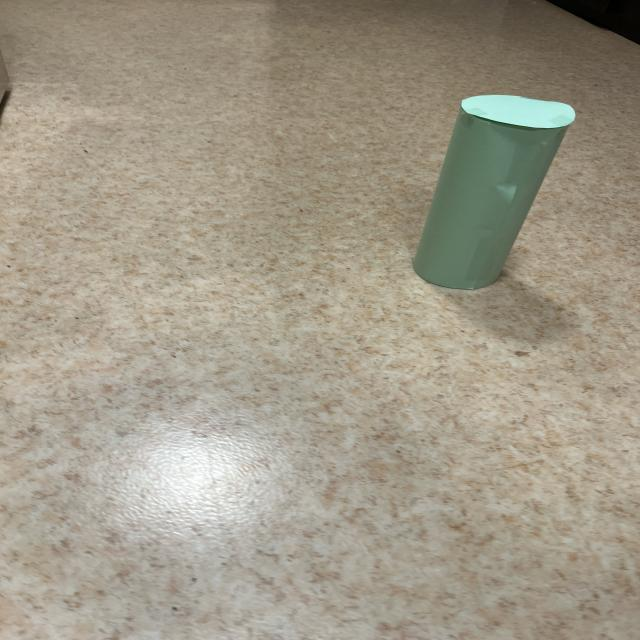meta: (414, 95, 575, 290)
